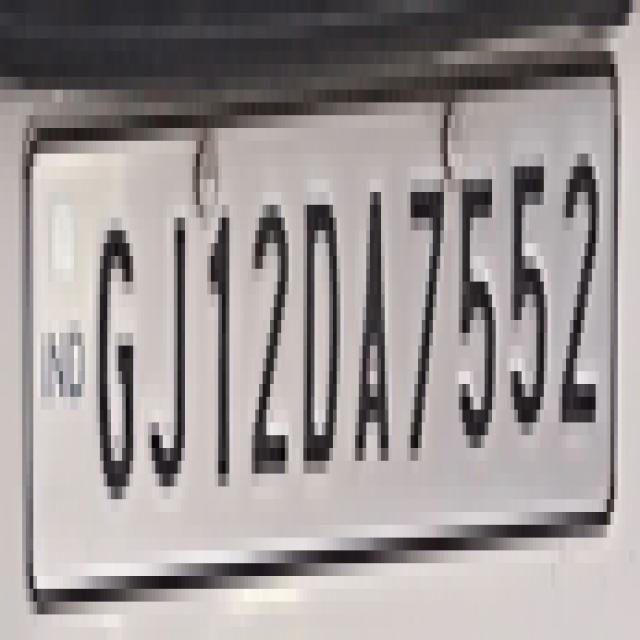1: (202, 214, 247, 530)
5: (456, 166, 507, 470), (508, 154, 558, 440)
7: (404, 166, 446, 465)
A: (352, 168, 392, 488)
D: (301, 188, 352, 493)
G: (92, 203, 142, 502)
J: (146, 205, 197, 506)
